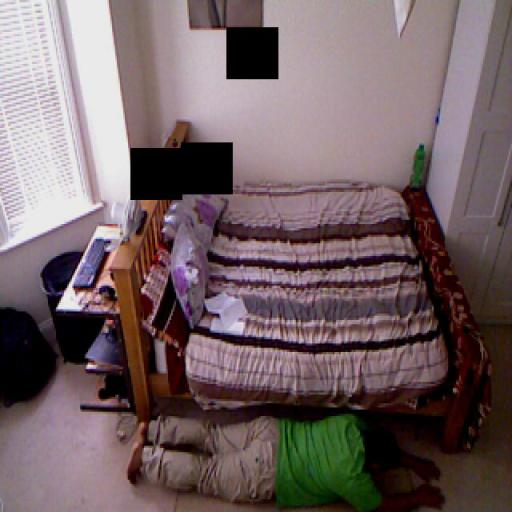Fall: (125, 409, 445, 512)
